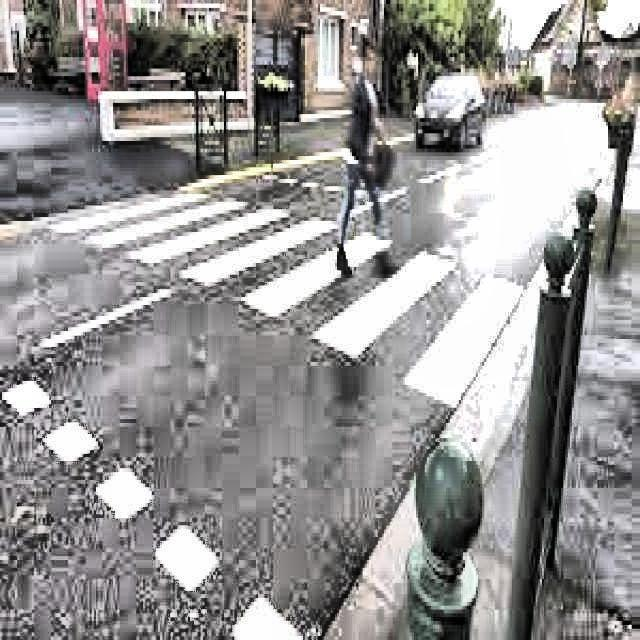faixa de pedestre: (29, 186, 531, 402)
